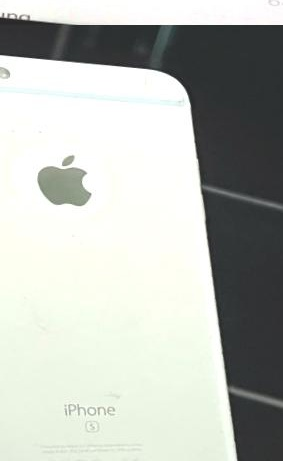scratch: (116, 67, 190, 103), (0, 117, 57, 162), (0, 187, 23, 217)
